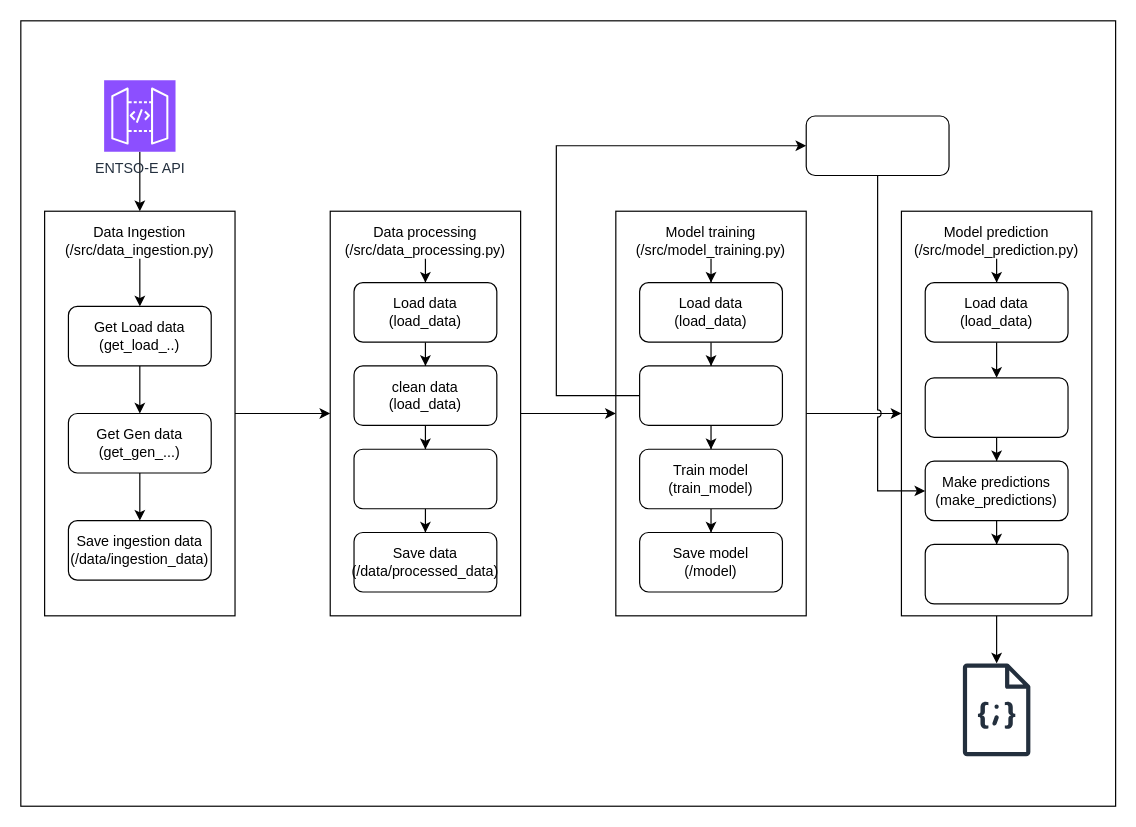
Image size: 1136x827. Some labels were removed from this diagram. The centre of each missing label's shape, as x and y in pixels:
Load model (load_model ): the point at 996,407
Prediction.json: the point at 996,709
preprocess data (preprocess_data ): the point at 425,478
Save predictions (/predictions ): the point at 996,573
Save test data (/data/test_data.csv ): the point at 877,145
Split data (split_data ): the point at 710,395
